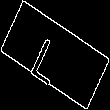L_NE: (34, 25, 76, 85)
